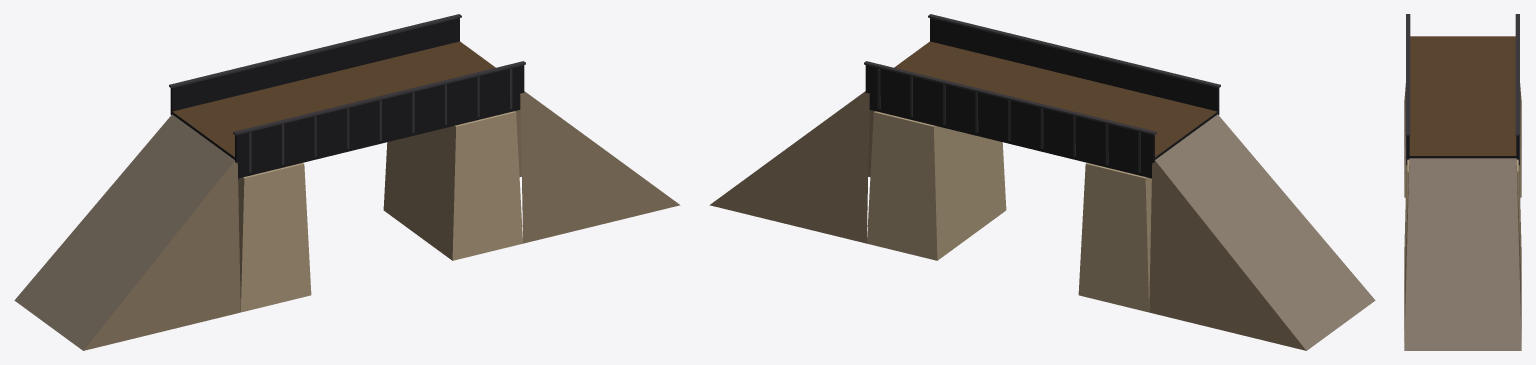
File: bridge_low.glb
The picture shows the model from 3 angles, left to right: view 1: azimuth 30°, elevation 25°; view 2: azimuth 150°, elevation 25°; view 3: azimuth 270°, elevation 25°; orthographic projection. The views are drawn at different scales.
Parts seen in each view (by area): view 1: Body; view 2: Body; view 3: Body.
Boxes of the visible parts, x1=… form: Body: x1=14, y1=14, x2=680, y2=350; Body: x1=709, y1=14, x2=1375, y2=350; Body: x1=1404, y1=14, x2=1521, y2=350.
Bounding box in the file's own units: 22 × 6.3 × 4.4.
